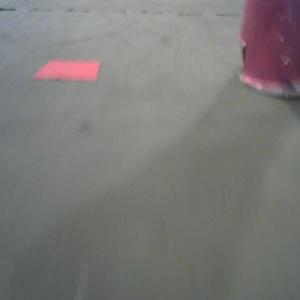right: (237, 1, 300, 101)
